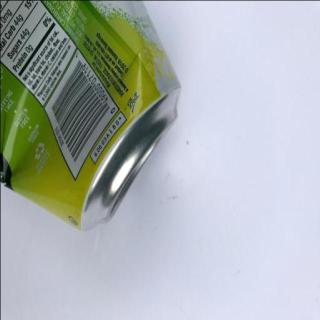Anorganik: (0, 0, 188, 238)
